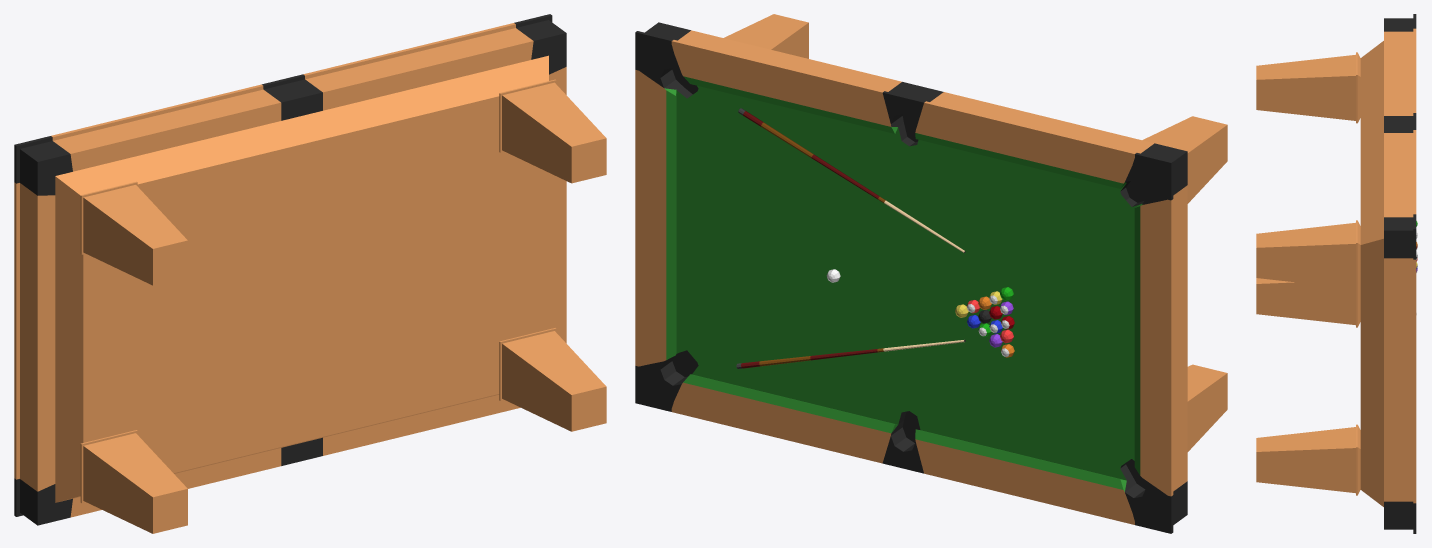
The picture shows the model from 3 angles, left to right: view 1: azimuth 30°, elevation 25°; view 2: azimuth 150°, elevation 25°; view 3: azimuth 270°, elevation 25°; orthographic projection. The views are drawn at different scales.
Parts seen in each view (by area): view 1: imagetostl_mesh0, imagetostl_mesh2; view 2: imagetostl_mesh1, imagetostl_mesh0, imagetostl_mesh2; view 3: imagetostl_mesh0, imagetostl_mesh2.
Part boxes in pixels (left/top/right/bottom): imagetostl_mesh0: left=14, top=23, right=606, bottom=533; imagetostl_mesh2: left=14, top=14, right=566, bottom=525; imagetostl_mesh1: left=664, top=76, right=1142, bottom=491; imagetostl_mesh0: left=635, top=14, right=1227, bottom=524; imagetostl_mesh2: left=635, top=22, right=1187, bottom=533; imagetostl_mesh0: left=1256, top=28, right=1416, bottom=506; imagetostl_mesh2: left=1384, top=14, right=1416, bottom=533.
Size of the model in its own units: 1529 by 1012 by 485.
